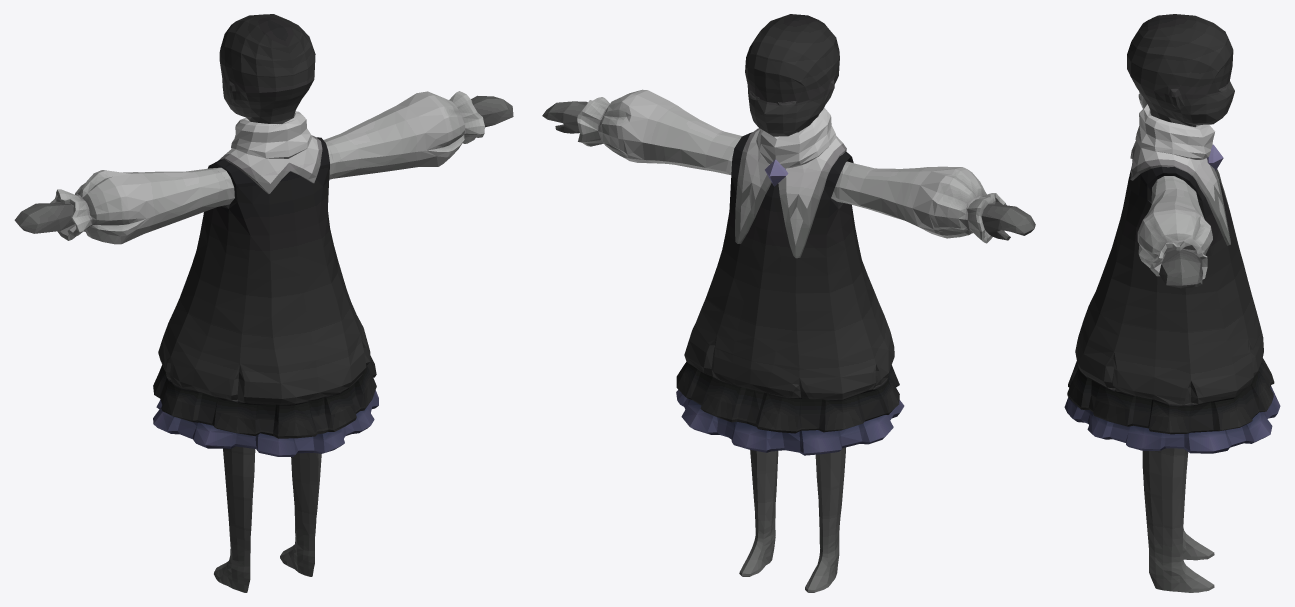
Rendered from CharSkyKid_Body_MischiefMagicDress.glb.
3 views of the same model, side by side, from view 1: azimuth 30°, elevation 25°; view 2: azimuth 150°, elevation 25°; view 3: azimuth 270°, elevation 25° (orthographic).
Parts seen in each view (by area): view 1: CharSkyKid_Body_MischiefMagicDress; view 2: CharSkyKid_Body_MischiefMagicDress; view 3: CharSkyKid_Body_MischiefMagicDress.
Part boxes in pixels (x1,y1,x2,y2): CharSkyKid_Body_MischiefMagicDress: (14, 14, 513, 592); CharSkyKid_Body_MischiefMagicDress: (542, 14, 1035, 592); CharSkyKid_Body_MischiefMagicDress: (1064, 14, 1280, 592).
Size of the model in its own units: 13.83 by 14.94 by 5.28.
1 material, 1 textured.
